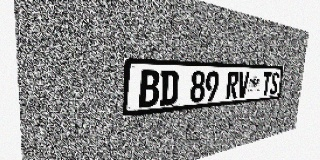8: (189, 71, 206, 103)
9: (204, 71, 220, 101)
B: (138, 70, 160, 108)
D: (159, 70, 179, 106)
R: (226, 71, 239, 99)
S: (269, 72, 279, 95)
T: (261, 72, 272, 96)
V: (237, 72, 249, 98)
